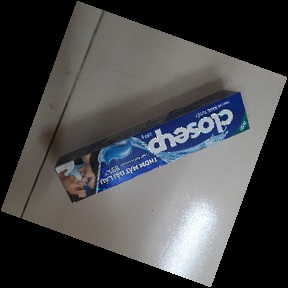CloseUp Tuyet: (54, 88, 251, 205)
